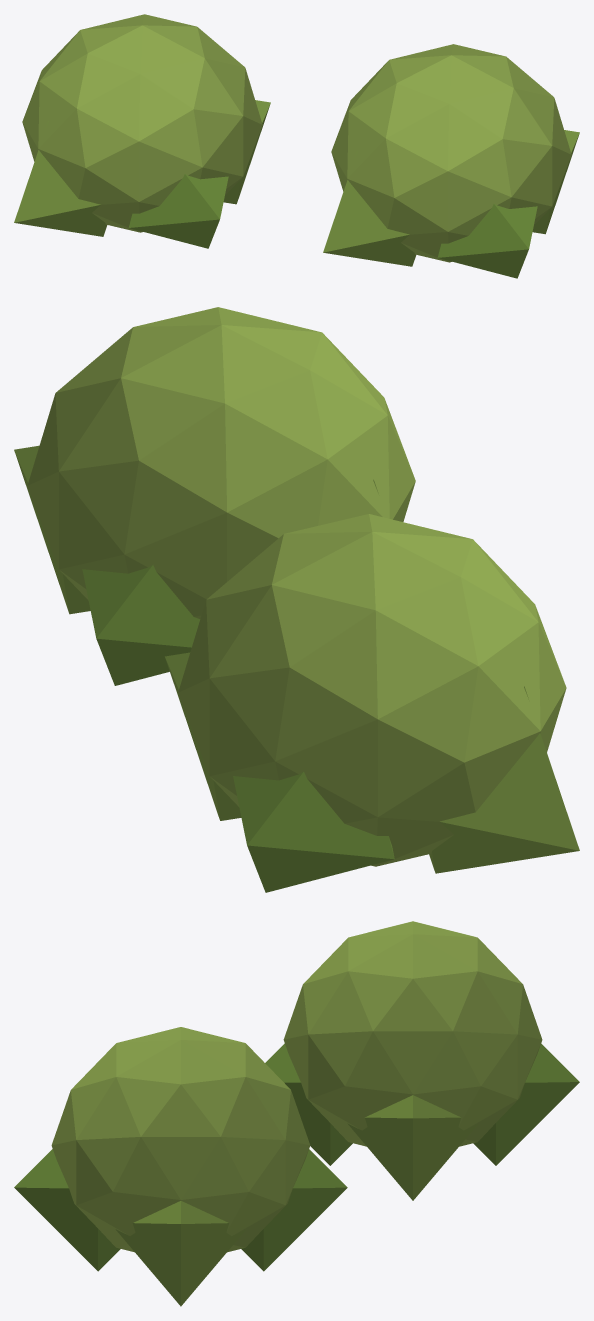
Rendered from crop-cell-lettuce-ready.gltf.
The picture shows the model from 3 angles, top to bottom: view 1: azimuth 30°, elevation 25°; view 2: azimuth 150°, elevation 25°; view 3: azimuth 270°, elevation 25°; orthographic projection. The views are drawn at different scales.
Parts seen in each view (by area): view 1: crop-cell-lettuce-ready; view 2: crop-cell-lettuce-ready; view 3: crop-cell-lettuce-ready.
Boxes of the visible parts, box(x1,y1,x2,y2) form: crop-cell-lettuce-ready: box(14, 14, 579, 278); crop-cell-lettuce-ready: box(14, 307, 579, 892); crop-cell-lettuce-ready: box(14, 921, 579, 1306).
Bounding box in the file's own units: 0.6378 × 0.2688 × 0.6341.
